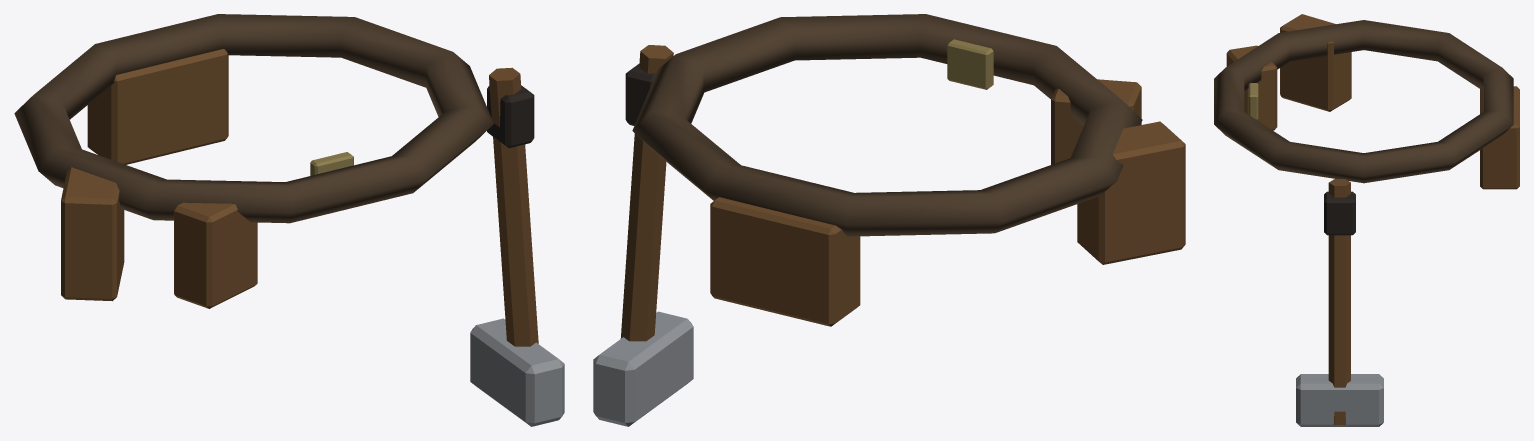
Rendered from npc_belt_hammer.glb.
3 renders of one model, left to right at view 1: azimuth 30°, elevation 25°; view 2: azimuth 150°, elevation 25°; view 3: azimuth 270°, elevation 25°, orthographic. The views are drawn at different scales.
Visible parts, largest first — view 1: part.npc_belt_hammer; view 2: part.npc_belt_hammer; view 3: part.npc_belt_hammer.
Part boxes in pixels (bbox=[...]): part.npc_belt_hammer: bbox=[14, 14, 564, 426]; part.npc_belt_hammer: bbox=[593, 14, 1185, 426]; part.npc_belt_hammer: bbox=[1214, 14, 1519, 426].
Size of the model in its own units: 0.5144 by 0.3428 by 0.3824.
